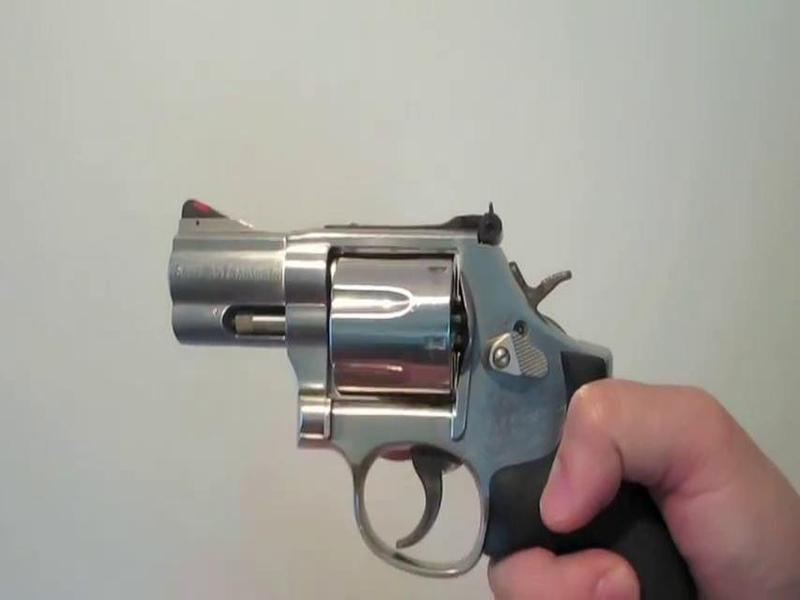Revolver: (155, 169, 688, 600)
